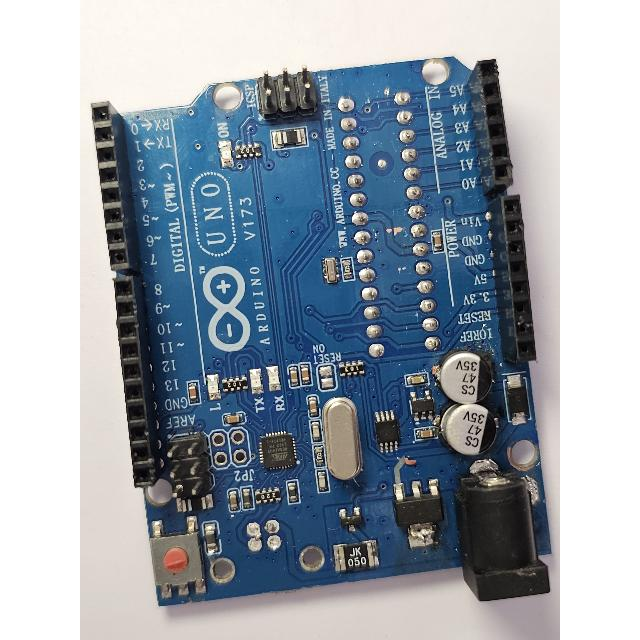missing_atmega: (333, 78, 449, 374)
missing_usb: (220, 505, 328, 588)
